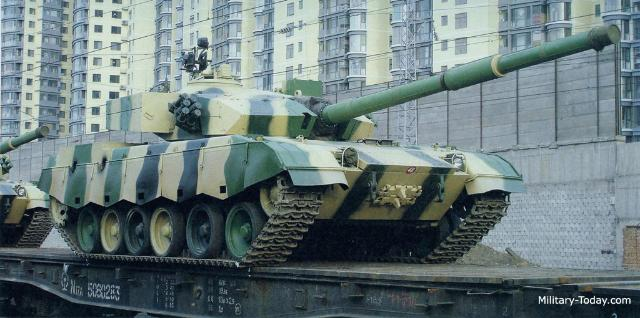tank: (55, 80, 502, 257), (0, 140, 48, 233)
